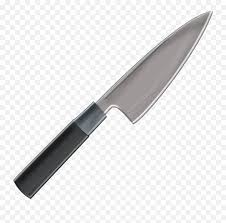knife: (12, 9, 214, 201)
